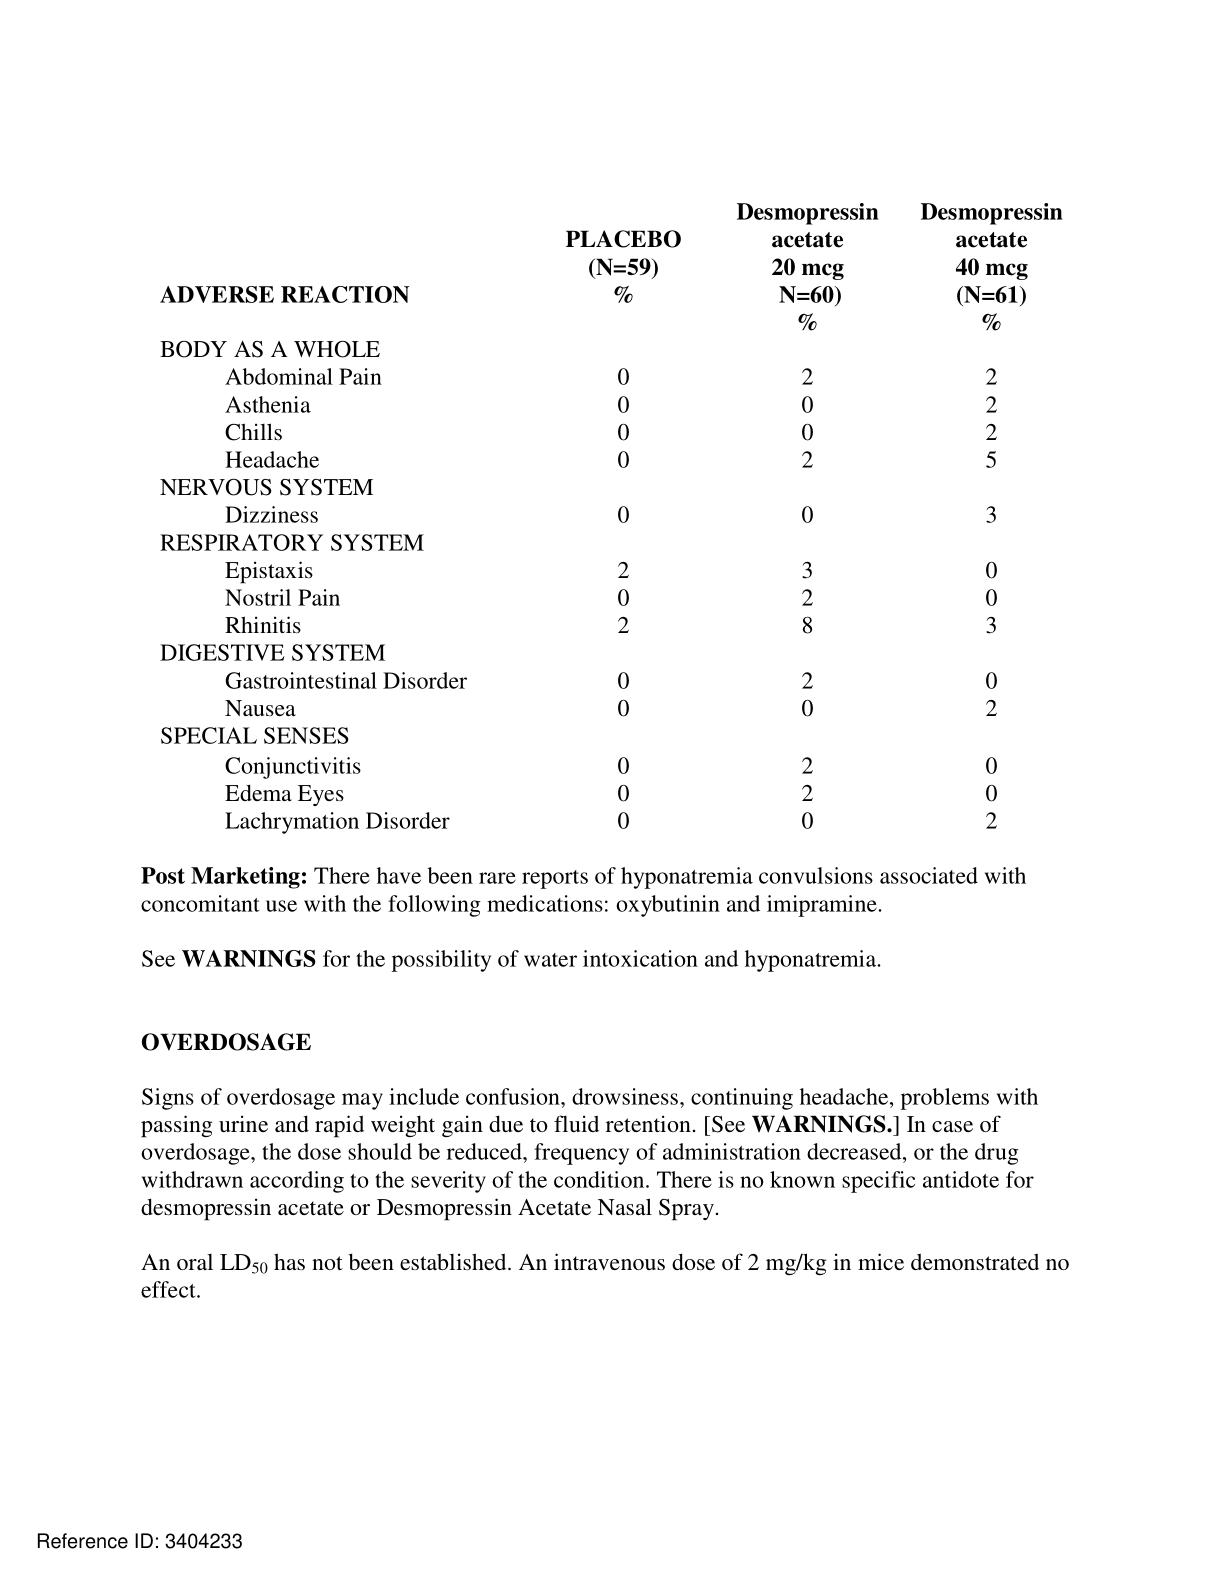nolines: (157, 201, 1067, 836)
